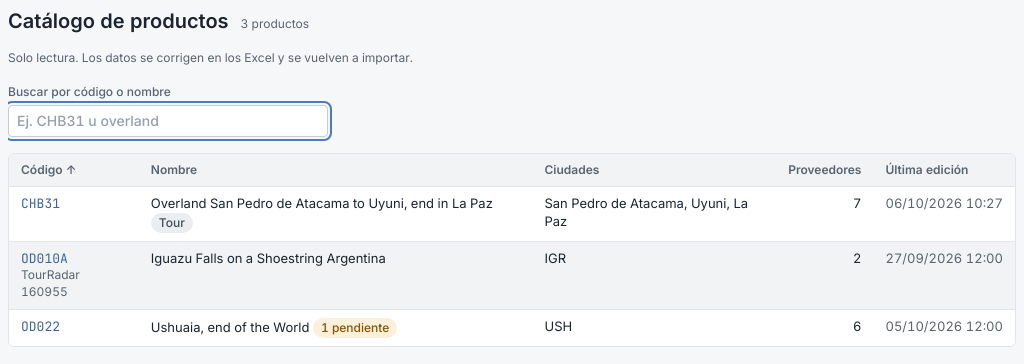
Test: Catálogo de productos (#1, #2, #10, #12) › buscar CHB31 u 'overland' deja solo el Overland; sin coincidencias avisa
In the search field labelled "Buscar por código o nombre": [168, 121] box [8,105,328,137], type "CHB31"
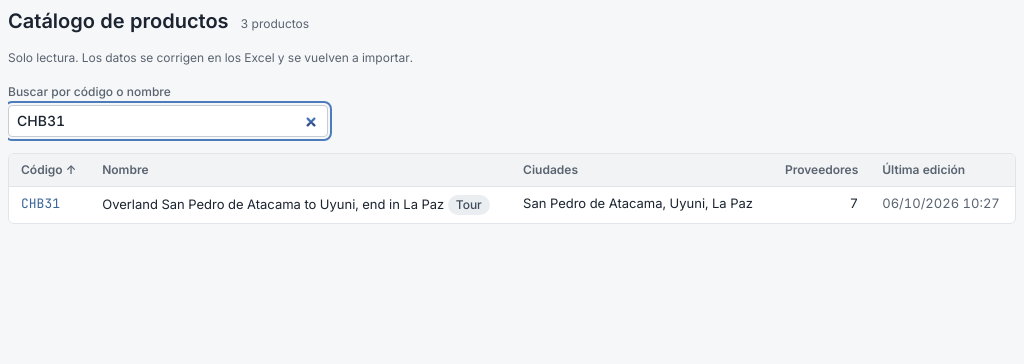
Check: the text "Overland San Pedro de Atacama to Uyuni, end in La Paz" is shown, box [102,196,444,212]
Replace the text in the search field labelled "Buscar por código o nombre" with "overland": [168, 121] box [8,105,328,137]
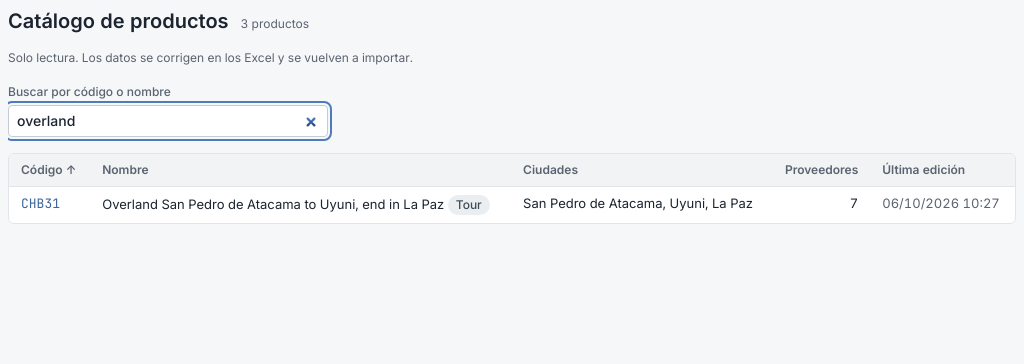
Replace the text in the search field labelled "Buscar por código o nombre" with "zzz": [168, 121] box [8,105,328,137]
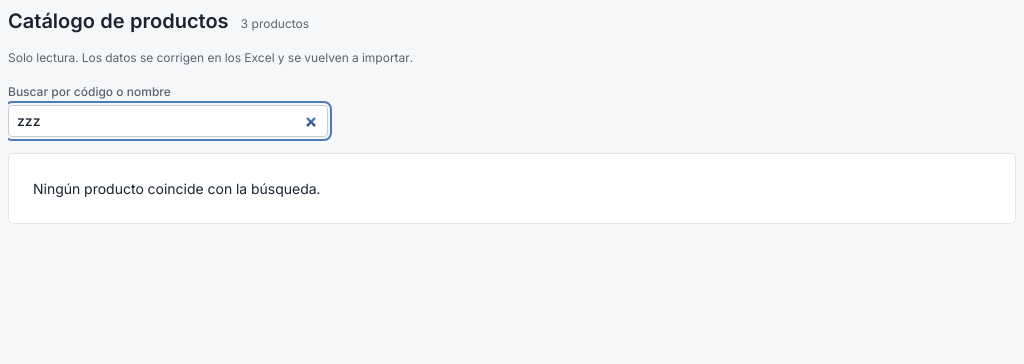
Check: the text "Ningún producto coincide con la búsqueda." is shown, box [33,180,320,197]
